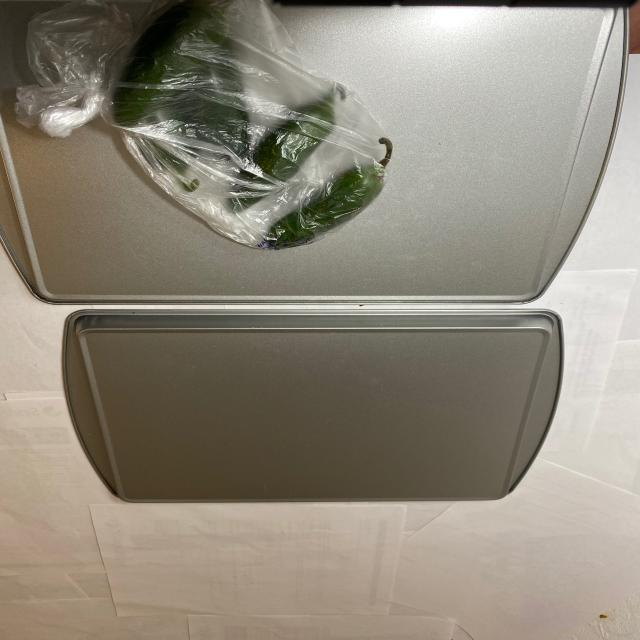chilli: (22, 6, 393, 250)
